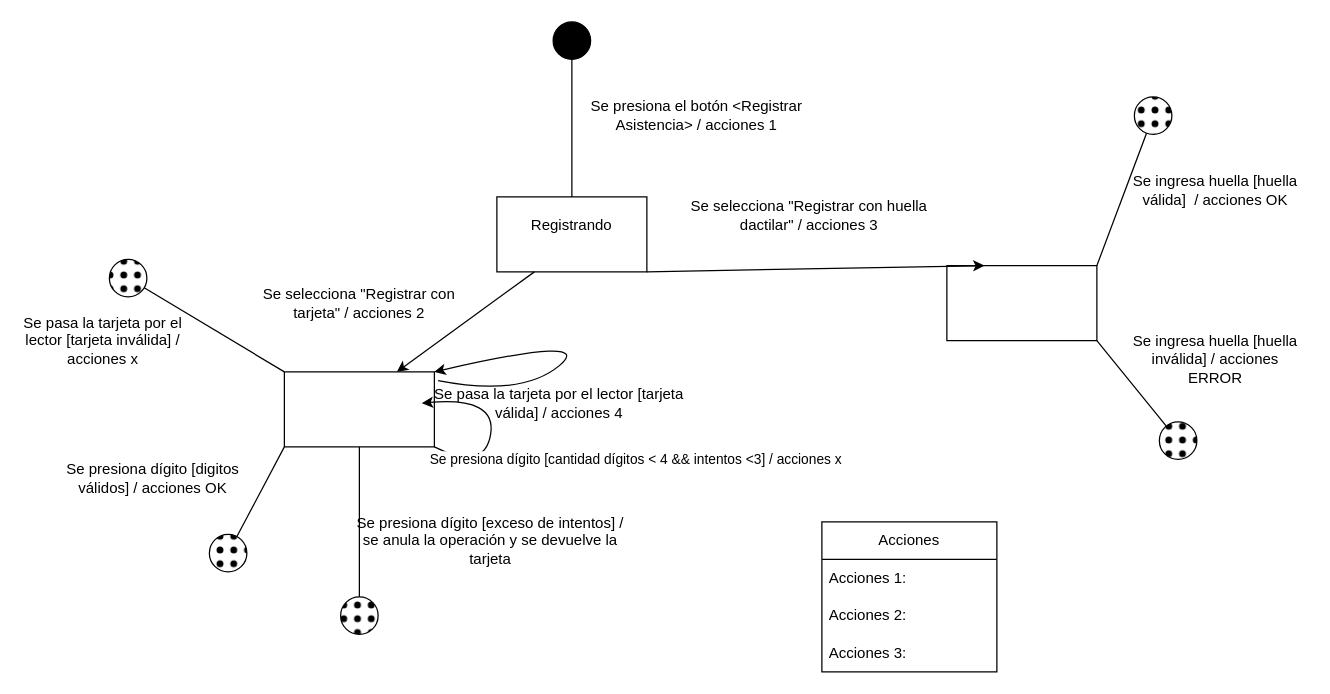
Image size: 1330x694. Some labels were removed from this diagram. Each missing label, with the centre of its shape:
"Validando Huella" belongs at [1021,302].
"Validando Tarjeta" belongs at [358,409].
